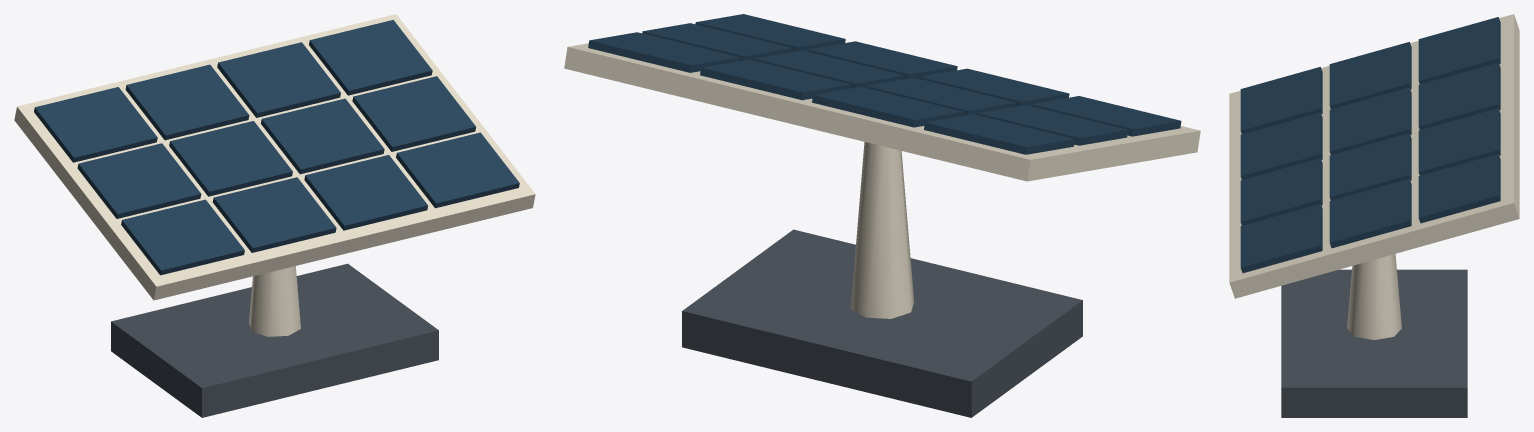
File: solar-panel.glb
3 views of the same model, side by side, from view 1: azimuth 30°, elevation 25°; view 2: azimuth 150°, elevation 25°; view 3: azimuth 270°, elevation 25° (orthographic). The views are drawn at different scales.
Visible parts, largest first — view 1: SolarCell (×12), Foot, Frame, Support; view 2: Foot, SolarCell (×12), Frame, Support; view 3: SolarCell (×12), Foot, Frame, Support.
Part boxes in pixels (<box>): SolarCell (×12): <box>34,20,519,275</box>; Foot: <box>111,263,438,417</box>; Frame: <box>14,14,535,300</box>; Support: <box>249,266,300,336</box>; Foot: <box>682,229,1082,417</box>; SolarCell (×12): <box>588,14,1181,154</box>; Frame: <box>564,43,1200,181</box>; Support: <box>850,142,914,318</box>; SolarCell (×12): <box>1240,17,1500,273</box>; Foot: <box>1281,269,1467,417</box>; Frame: <box>1229,14,1519,298</box>; Support: <box>1347,254,1401,339</box>.
Bounding box in the file's own units: 2.4 × 1.5 × 1.56.
